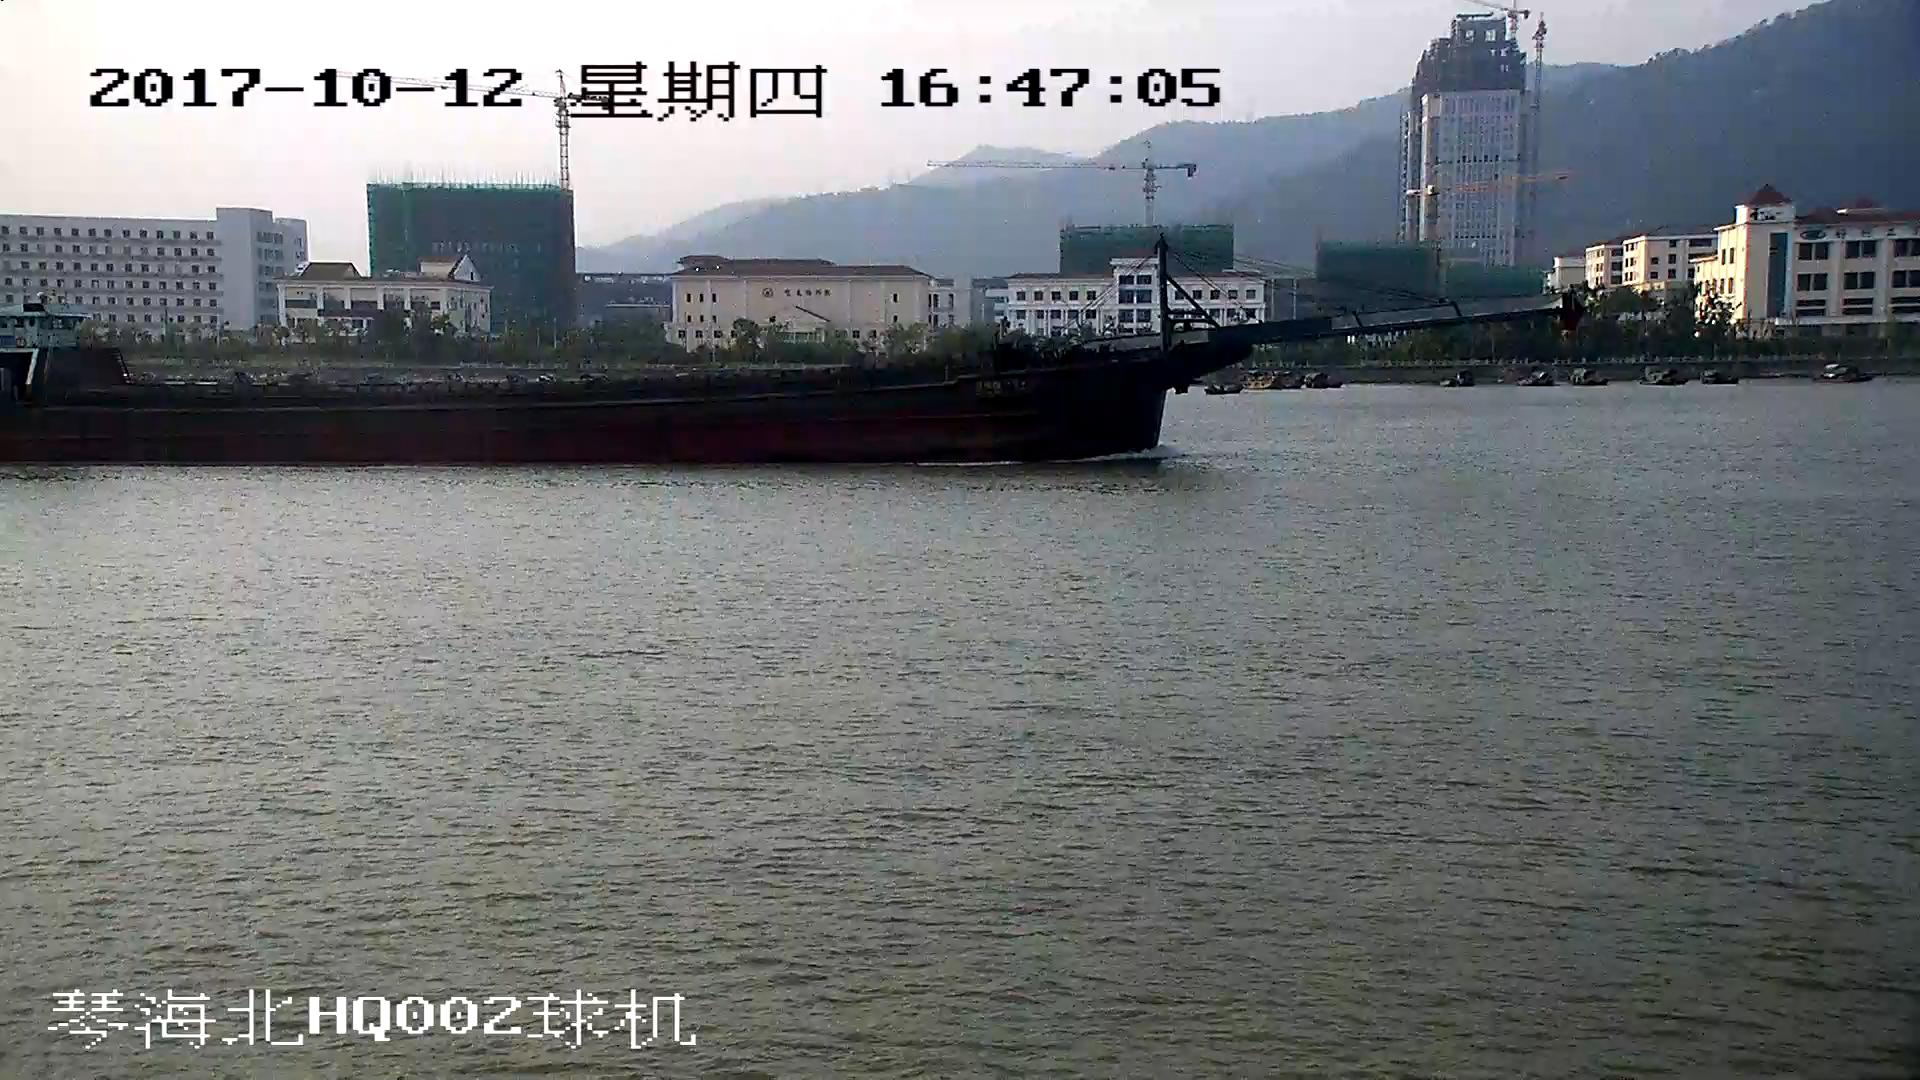bulk cargo carrier: (1, 234, 1561, 466)
